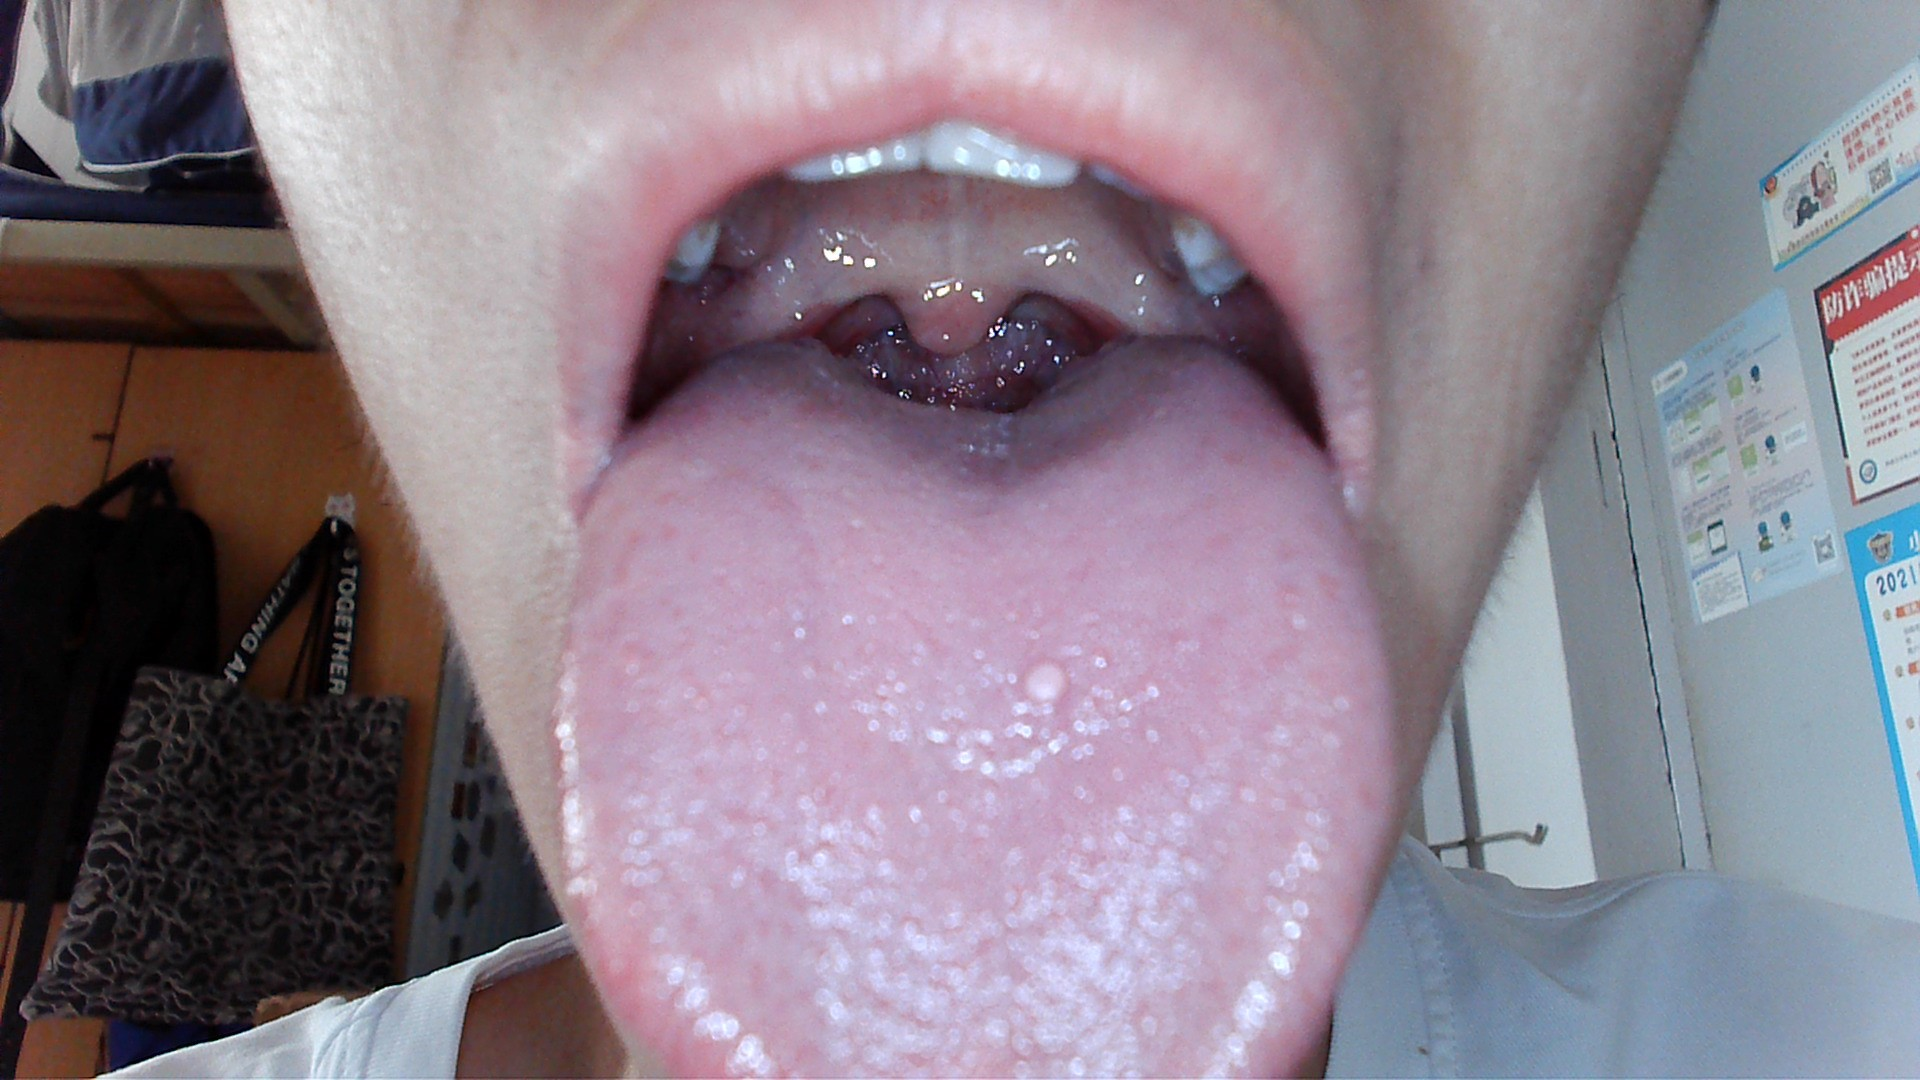throat: (735, 272, 851, 344), (1065, 264, 1174, 340)
